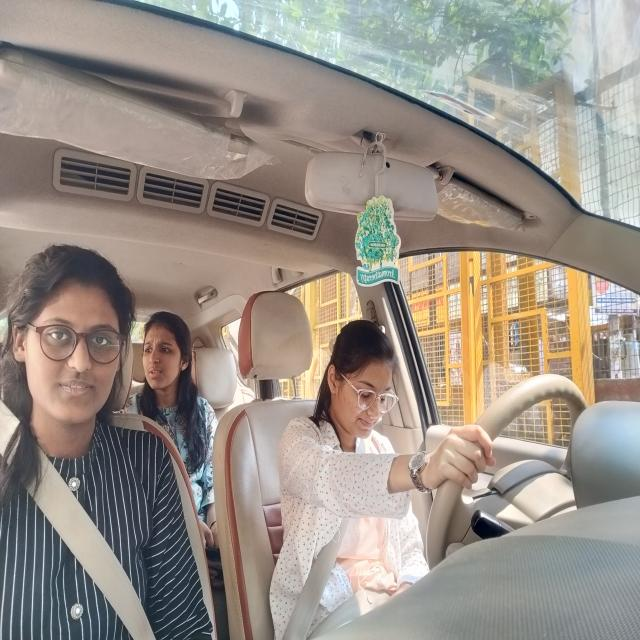drowsy: (324, 318, 396, 438)
person: (11, 245, 130, 427), (141, 309, 189, 392)
